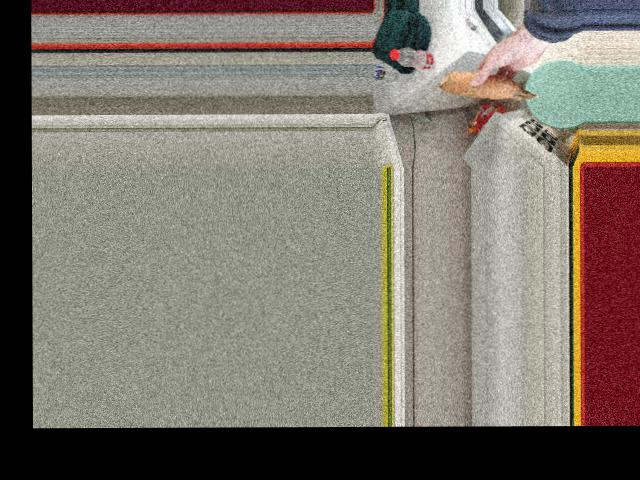sweet_potato: (434, 76, 542, 102)
